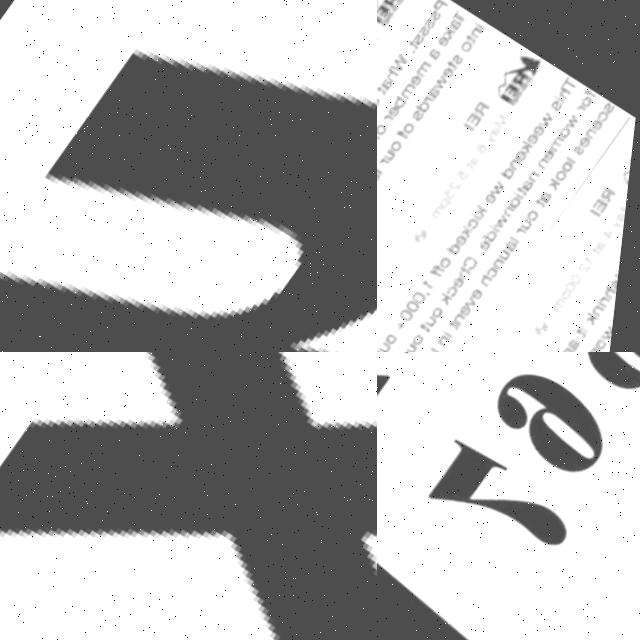0: (569, 279, 587, 295), (411, 299, 430, 314), (418, 290, 436, 305), (406, 308, 424, 323), (574, 272, 592, 287)
1: (587, 255, 603, 268), (428, 277, 445, 289)
2: (377, 352, 426, 446), (583, 260, 600, 275), (451, 180, 469, 194)
4: (604, 228, 623, 243)
5: (520, 352, 640, 415), (459, 169, 476, 183), (446, 187, 463, 201)
6: (467, 352, 640, 500), (477, 142, 494, 156)
7: (404, 418, 622, 598)
A: (426, 44, 447, 64), (508, 238, 528, 255), (427, 85, 445, 101), (574, 337, 590, 352), (381, 77, 397, 90), (544, 190, 560, 203), (449, 18, 464, 31), (492, 125, 507, 138), (472, 154, 487, 167), (525, 178, 540, 191), (600, 240, 615, 253), (377, 169, 388, 184), (377, 93, 385, 108), (621, 211, 631, 223)
B: (392, 95, 411, 110)
C: (465, 253, 490, 274), (491, 265, 508, 281), (451, 284, 469, 299), (472, 218, 487, 231), (599, 111, 614, 124), (527, 77, 538, 86), (396, 0, 405, 5)
D: (450, 241, 469, 256), (417, 99, 435, 114), (503, 166, 521, 181), (487, 228, 505, 243)
E: (388, 103, 406, 121), (481, 238, 500, 255), (456, 274, 475, 291), (516, 149, 535, 164), (441, 66, 459, 81), (534, 124, 552, 139), (528, 132, 546, 147), (487, 192, 505, 207), (459, 233, 477, 248), (468, 112, 486, 127), (505, 83, 523, 98), (597, 198, 615, 213), (476, 287, 493, 302), (437, 34, 453, 49), (411, 74, 427, 89), (465, 304, 481, 319), (377, 3, 392, 18), (593, 118, 608, 132), (546, 148, 561, 161), (581, 137, 596, 150)
F: (585, 88, 602, 101), (398, 128, 414, 140), (438, 263, 454, 275), (434, 267, 450, 279), (377, 129, 385, 141)
H: (483, 273, 501, 289), (385, 68, 403, 83), (462, 266, 480, 281), (606, 285, 624, 300), (557, 85, 575, 100)
I: (473, 20, 489, 31), (554, 93, 570, 104), (474, 210, 490, 221), (516, 190, 532, 201), (492, 224, 508, 235), (447, 328, 463, 339), (601, 299, 617, 310), (584, 324, 599, 334), (465, 122, 480, 132), (593, 209, 607, 219), (503, 94, 515, 102), (377, 14, 384, 22)
K: (520, 139, 540, 155), (443, 292, 462, 308), (590, 311, 609, 327), (441, 25, 460, 40), (549, 177, 568, 192), (476, 203, 494, 218), (462, 225, 480, 239)
L: (567, 156, 582, 166), (513, 235, 528, 245), (432, 345, 451, 352), (377, 164, 388, 174)
M: (416, 58, 437, 80), (495, 111, 515, 131), (551, 134, 570, 153), (402, 82, 421, 100), (436, 203, 452, 220), (559, 297, 575, 314), (624, 199, 632, 214), (592, 346, 611, 352), (377, 32, 382, 50)
N: (587, 127, 602, 141), (498, 257, 513, 271), (470, 27, 485, 40), (512, 158, 527, 171), (540, 157, 555, 170), (531, 170, 546, 183), (507, 205, 522, 218), (460, 313, 475, 326), (445, 335, 460, 348), (598, 305, 613, 318), (567, 345, 585, 352), (377, 178, 381, 191)
O: (563, 158, 582, 175), (560, 125, 578, 140), (600, 337, 618, 352), (418, 332, 435, 347), (393, 331, 409, 346), (531, 208, 547, 223), (377, 123, 393, 136), (461, 40, 476, 53), (405, 122, 420, 135), (393, 139, 408, 152), (445, 256, 460, 269), (582, 96, 597, 109), (513, 196, 528, 209), (437, 306, 452, 319), (558, 170, 573, 183), (517, 92, 526, 100), (392, 5, 400, 13), (387, 12, 395, 20), (524, 83, 532, 91)
P: (442, 196, 460, 210), (432, 0, 450, 14), (566, 290, 583, 304), (513, 99, 524, 108), (383, 19, 392, 27)
R: (474, 100, 495, 119), (513, 70, 531, 89), (603, 186, 623, 203), (425, 93, 440, 106), (381, 0, 402, 8), (385, 113, 399, 124), (383, 156, 397, 167), (577, 105, 591, 116), (521, 226, 535, 237), (608, 295, 620, 305)
S: (450, 52, 469, 67), (412, 31, 430, 46), (551, 99, 569, 114), (429, 9, 445, 22), (575, 145, 591, 158), (424, 17, 439, 30), (418, 25, 433, 38), (605, 102, 620, 115), (413, 110, 428, 123), (616, 279, 625, 292)
T: (450, 7, 471, 26), (563, 76, 583, 93), (406, 38, 423, 50), (463, 33, 479, 45), (447, 59, 463, 71), (466, 160, 482, 172), (519, 186, 535, 198), (426, 322, 442, 334), (537, 197, 553, 209), (454, 320, 470, 332), (581, 328, 597, 340), (377, 84, 391, 96), (595, 246, 609, 257), (380, 348, 396, 352), (377, 139, 381, 151)
U: (0, 0, 377, 352), (386, 149, 401, 162), (432, 315, 447, 328), (525, 218, 540, 231), (504, 249, 519, 262), (385, 342, 400, 352), (412, 342, 427, 352)
V: (472, 296, 487, 309)
W: (391, 52, 414, 75), (565, 112, 586, 133), (540, 111, 560, 130), (497, 213, 516, 232), (435, 74, 454, 92), (494, 180, 513, 198), (608, 325, 621, 344)
X: (0, 352, 377, 640)
Y: (486, 132, 504, 147), (615, 219, 630, 232)
